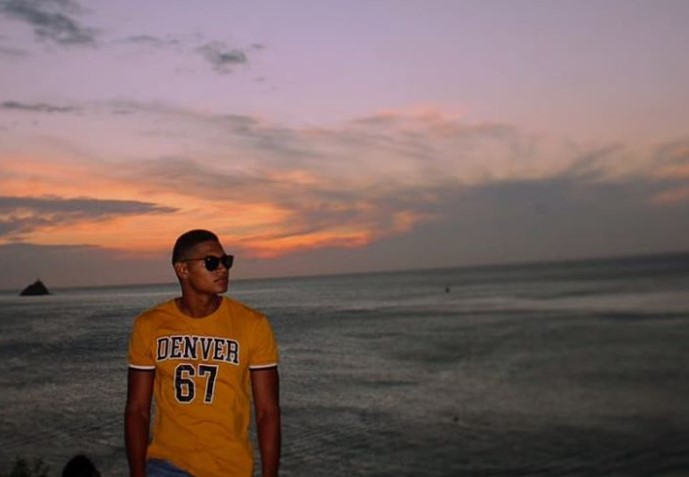face_no_mask: (175, 230, 236, 306)
